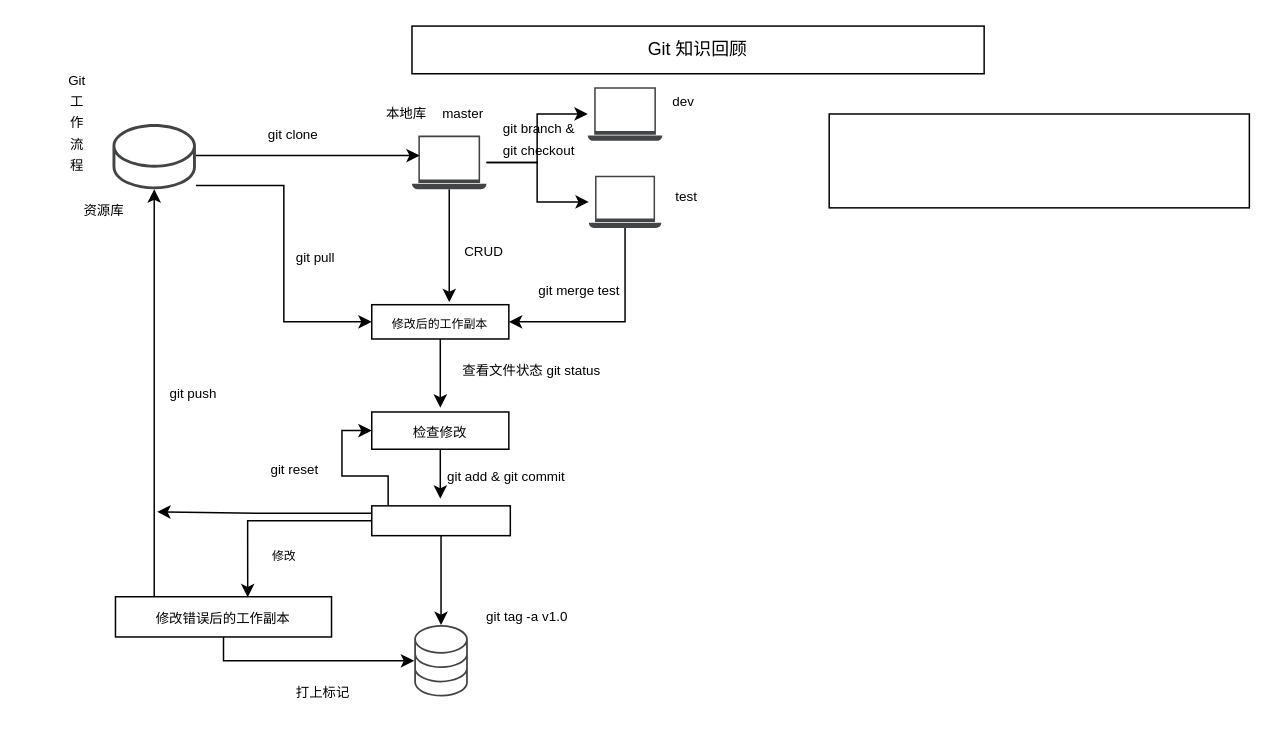
Some shapes in this 1275 by 738 pixel diagram are drawn without their labels. The box of each missing label's shape, as (x1, y1, x2, y2) in pixels:
工作区：当前能够看到的目录 暂存区：一般是存放在 .git 目录下的 index 文件中 版本库：工作区中的 .git 目录: (828, 112, 1249, 208)
提交修改: (370, 504, 510, 536)
